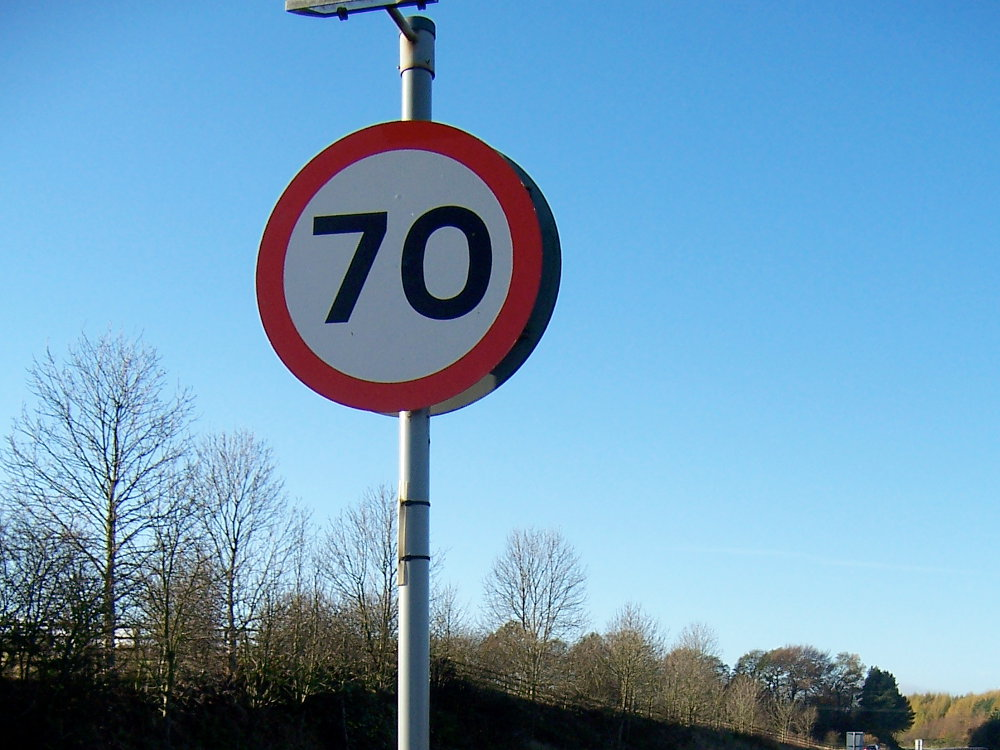Speed_limit_70km: (258, 120, 550, 417)
